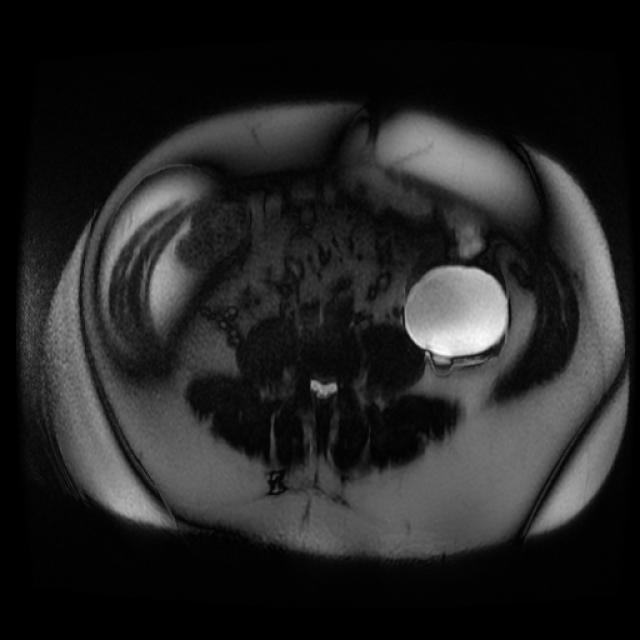sag: (201, 305, 242, 348)
sol: (408, 263, 508, 370)
